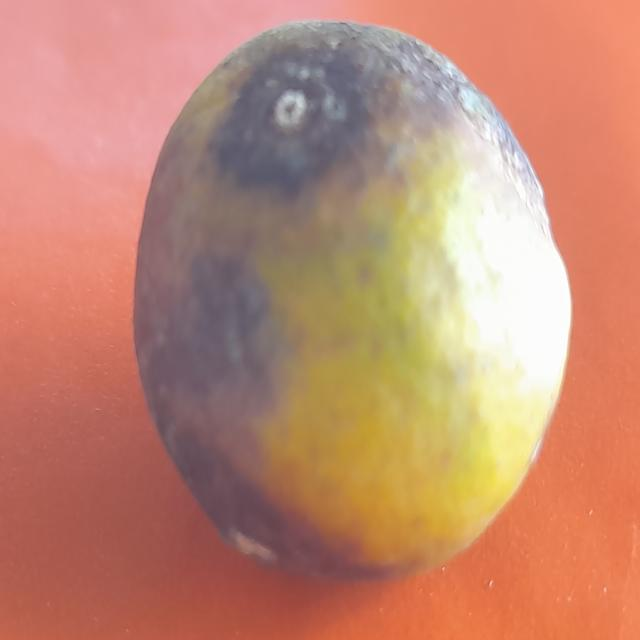black spot: (126, 16, 584, 590)
